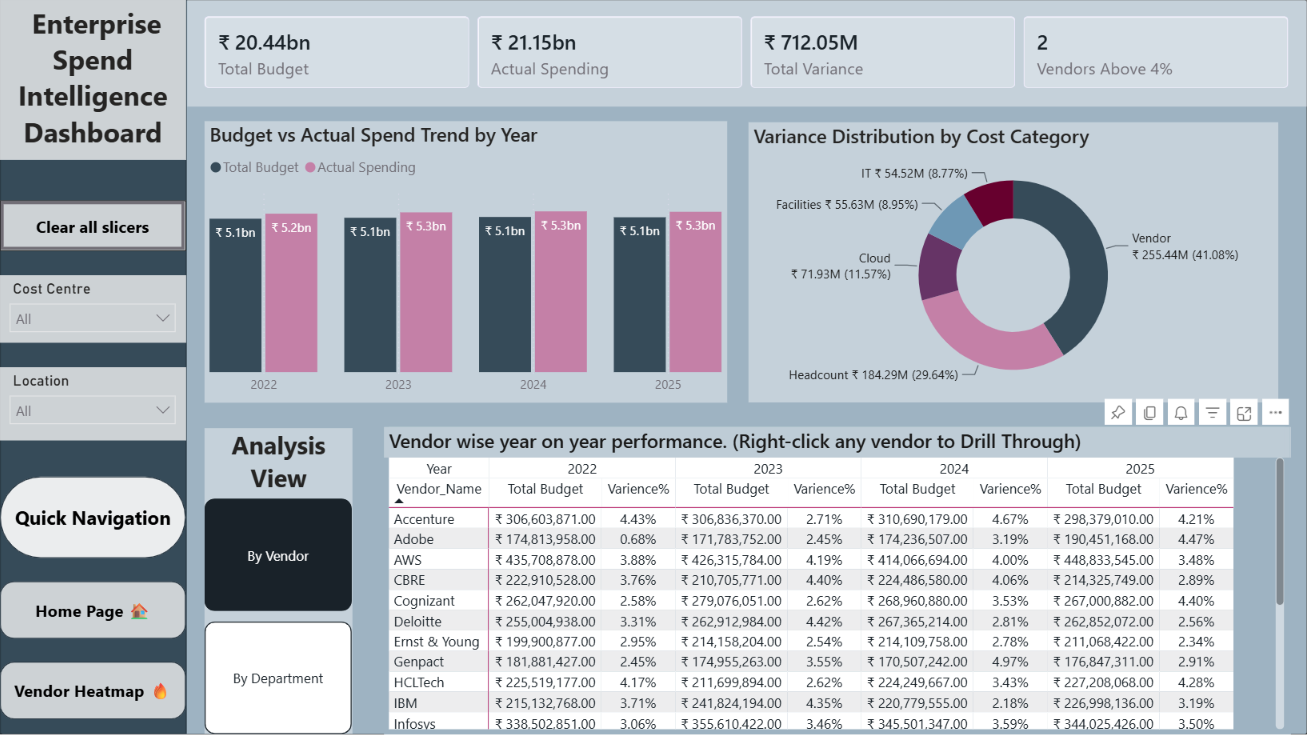

Layout of this report page (visuals, bound fields, positions):
{"tool":"powerbi","page":{"name":"Vendor Overview","canvas":[1280,720],"ordinal":1},"visuals":[{"type":"clusteredColumnChart","title":"Budget vs Actual Spend Trend by Year","fields":{"Category":["Calender.Date.Variation.Date Hierarchy.Year"],"Y":["Measure Table.Total Budget","Measure Table.Actual Spending"]},"box":[200.2,119,511,275.8],"z":0},{"type":"shape","box":[0,0,182.7,718.9],"z":1000},{"type":"cardVisual","fields":{"Data":["Measure Table.Total Budget","Measure Table.Actual Spending","Measure Table.Total Variance","Measure Table.Critical Vendors"]},"box":[183.4,0,1096.2,105],"z":2000},{"type":"slicer","fields":{"Values":["COST_CENTRE.Cost_Centre_Name"]},"box":[0,270.2,182,66.2],"z":3000},{"type":"pivotTable","title":"Department wise year on year performance","fields":{"Rows":["DEPARTMENT.Department_Name"],"Values":["Measure Table.Total Budget","Measure Table.%Over spent"],"Columns":["Calender.Date.Variation.Date Hierarchy.Year"]},"box":[376.6,418.6,886.2,301],"z":4000},{"type":"pivotTable","title":"Vendor wise year on year performance. (Right-click any vendor to Drill Through)","fields":{"Values":["Measure Table.Total Budget","Measure Table.%Over spent"],"Columns":["Calender.Date.Variation.Date Hierarchy.Year"],"Rows":["VENDOR.Vendor_Name"]},"box":[376,418,886,301],"z":5000},{"type":"bookmarkNavigator","title":"Analysis View","box":[199.9,419.1,144.7,299.1],"z":6000},{"type":"donutChart","title":"Variance Distribution by Cost Category","fields":{"Y":["Measure Table.Total Variance"],"Category":["COST_CATEGORY.Category_Name"]},"box":[732,119.9,518.3,274.3],"z":7000},{"type":"slicer","fields":{"Values":["DEPARTMENT.Location"]},"box":[0,359.8,182,71.7],"z":8000},{"type":"actionButton","box":[0,197.1,182,49.6],"z":9000},{"type":"textbox","box":[0,0,182,157.2],"z":10000},{"type":"shape","box":[0,569.3,182,56.5],"z":11000},{"type":"shape","box":[0,647.9,182,56.5],"z":12000},{"type":"shape","box":[0,467.3,182,80],"z":13000}]}

Visuals, with their boxes in screenshot pixels (x1, y1, x2, y2), scaled from the page's 1280x720 canvas onto the 1307x735 screenshot:
"Budget vs Actual Spend Trend by Year" clusteredColumnChart: (204, 121, 726, 403)
shape: (0, 0, 187, 734)
cardVisual - Measure Table.Total Budget x Measure Table.Actual Spending: (187, 0, 1306, 107)
slicer - COST_CENTRE.Cost_Centre_Name: (0, 276, 186, 343)
"Department wise year on year performance" pivotTable: (385, 427, 1289, 734)
"Vendor wise year on year performance. (Right-click any vendor to Drill Through)" pivotTable: (384, 427, 1289, 734)
"Analysis View" bookmarkNavigator: (204, 428, 352, 733)
"Variance Distribution by Cost Category" donutChart: (747, 122, 1277, 402)
slicer - DEPARTMENT.Location: (0, 367, 186, 440)
actionButton: (0, 201, 186, 252)
textbox: (0, 0, 186, 160)
shape: (0, 581, 186, 639)
shape: (0, 661, 186, 719)
shape: (0, 477, 186, 559)
